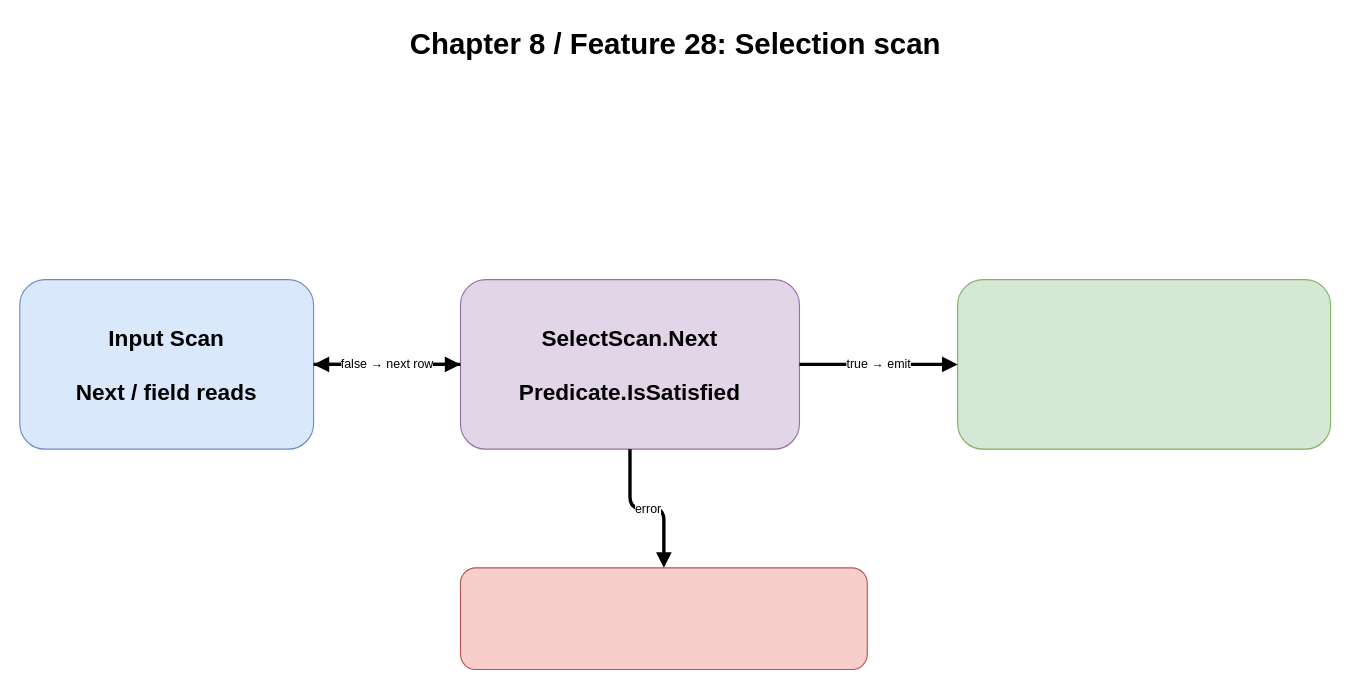
Some shapes in this 1350 by 689 pixel diagram are drawn without their labels. The shapes that lost their labels are listed below. From the top down, each one's centre as x and y in pixels, then its label:
At point 1144,364: "Selected rows read / update / RID operations delegated".
At point 663,618: "source or predicate error wrapped with select-scan context".
